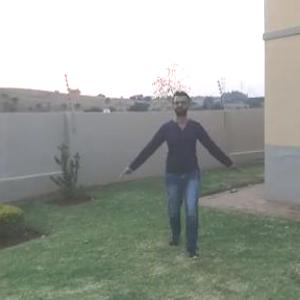land: (134, 98, 226, 228)
